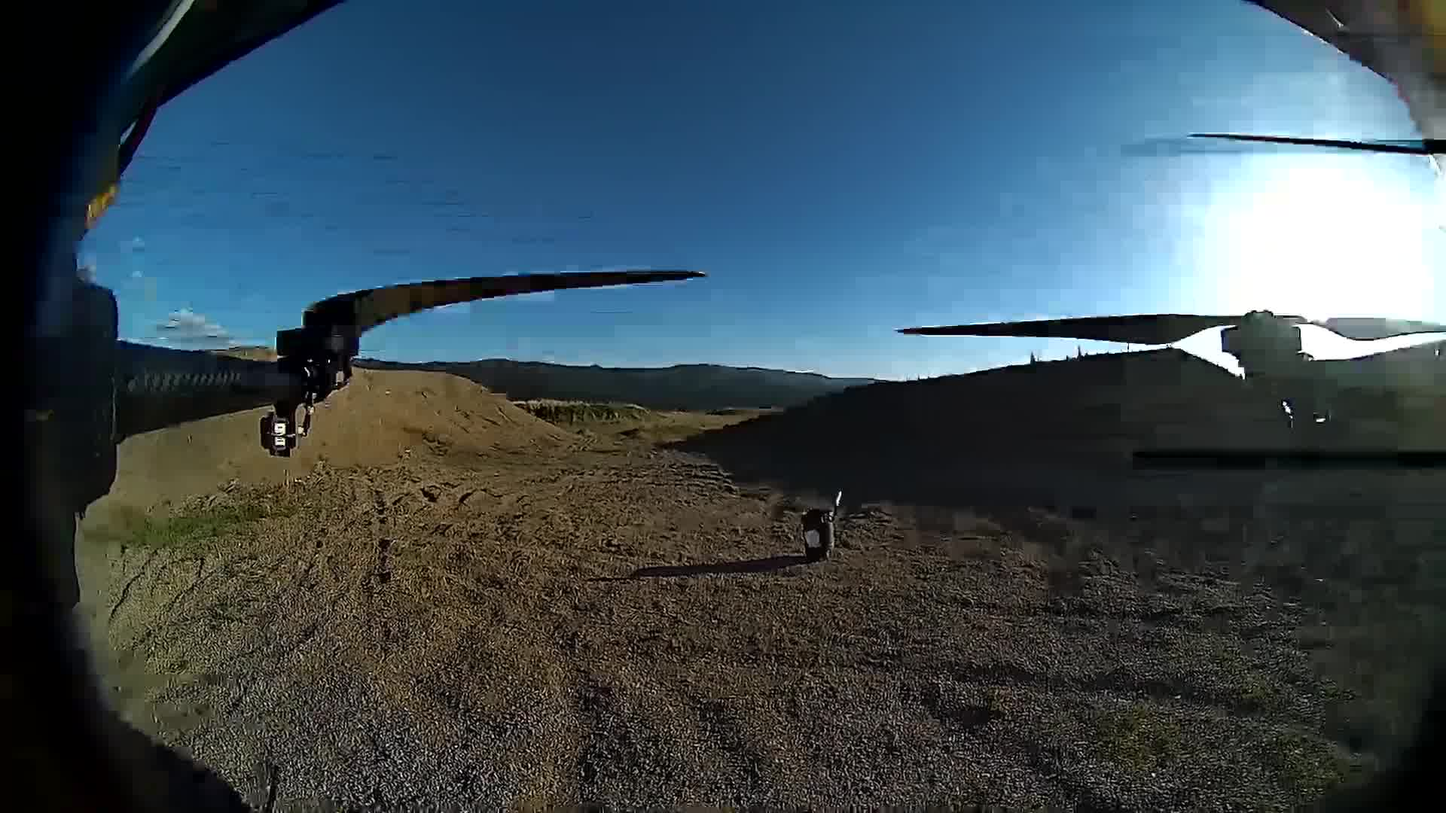Target: (804, 531, 821, 548)
